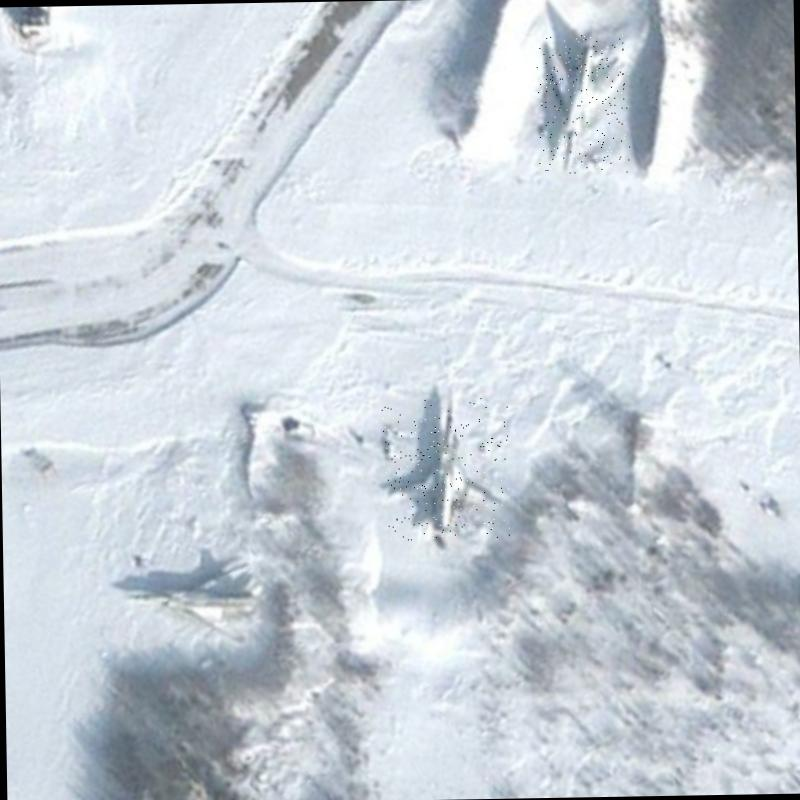A12: (381, 396, 509, 540), (536, 34, 630, 174), (121, 556, 266, 646)
